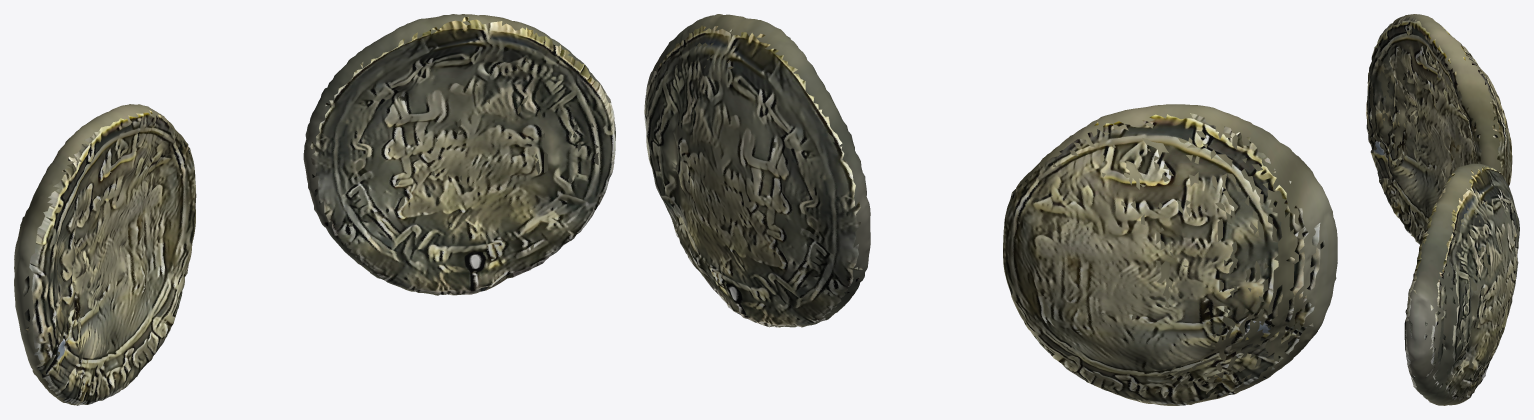
File: kfl-2168.glb
3 views of the same model, side by side, from view 1: azimuth 30°, elevation 25°; view 2: azimuth 150°, elevation 25°; view 3: azimuth 270°, elevation 25° (orthographic). The views are drawn at different scales.
Visible parts, largest first — view 1: kfl-2168; view 2: kfl-2168; view 3: kfl-2168.
Part boxes in pixels (x1,y1,x2,y2): kfl-2168: (14,14,615,405); kfl-2168: (644,14,1337,405); kfl-2168: (1366,14,1519,405).
Size of the model in its own units: 0.9957 by 0.4301 by 0.264.
4 materials, 4 textured.
